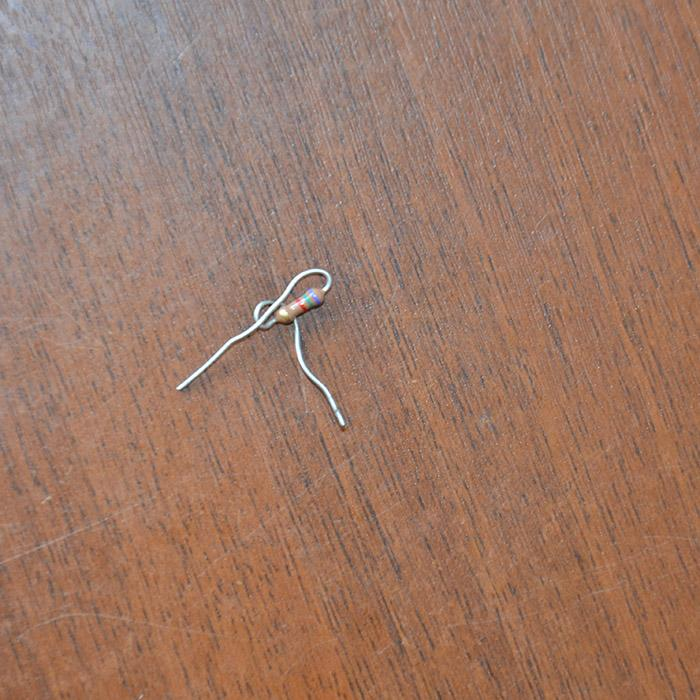resistor: (274, 286, 326, 325)
